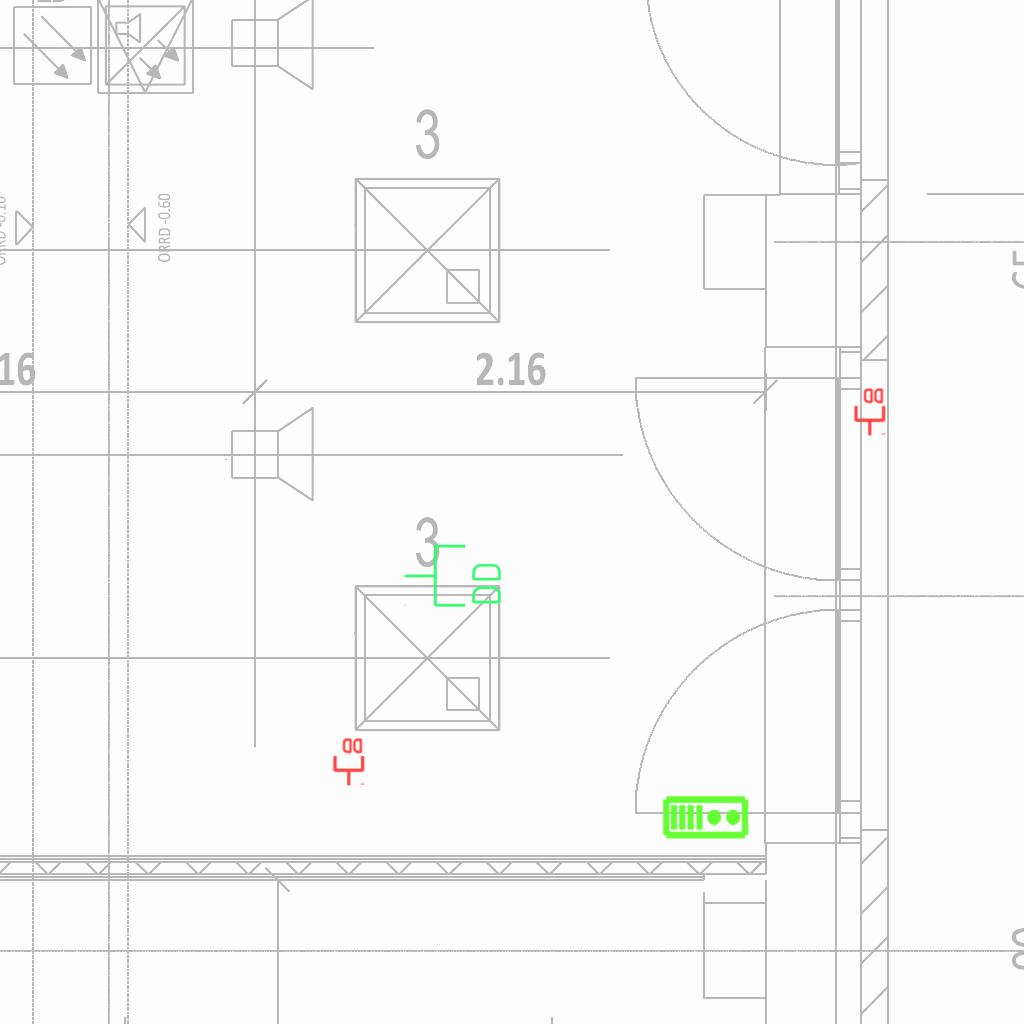Datenanschluss_zweifach: (402, 542, 505, 611), (331, 736, 365, 787), (852, 386, 886, 437)
Gegensprechanlage_mit_Video: (662, 793, 750, 840)
